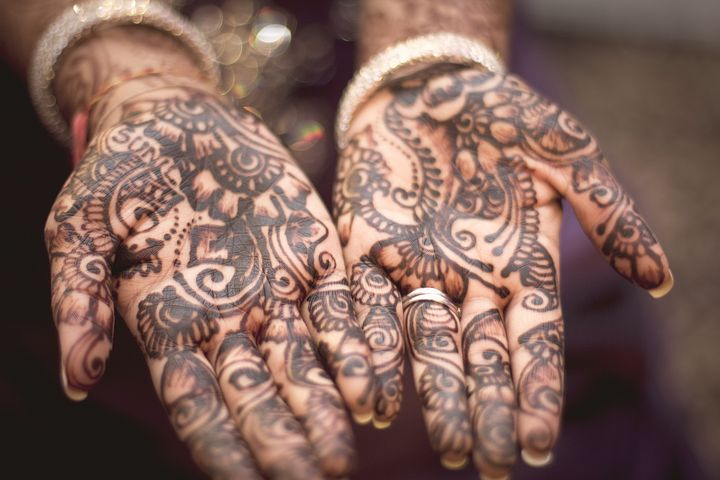palmhand: (52, 105, 339, 480), (344, 61, 600, 467)
